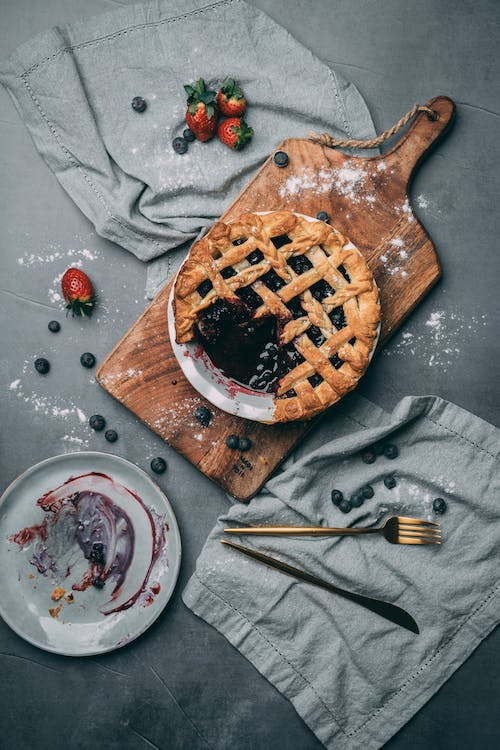knife: (217, 537, 422, 637)
